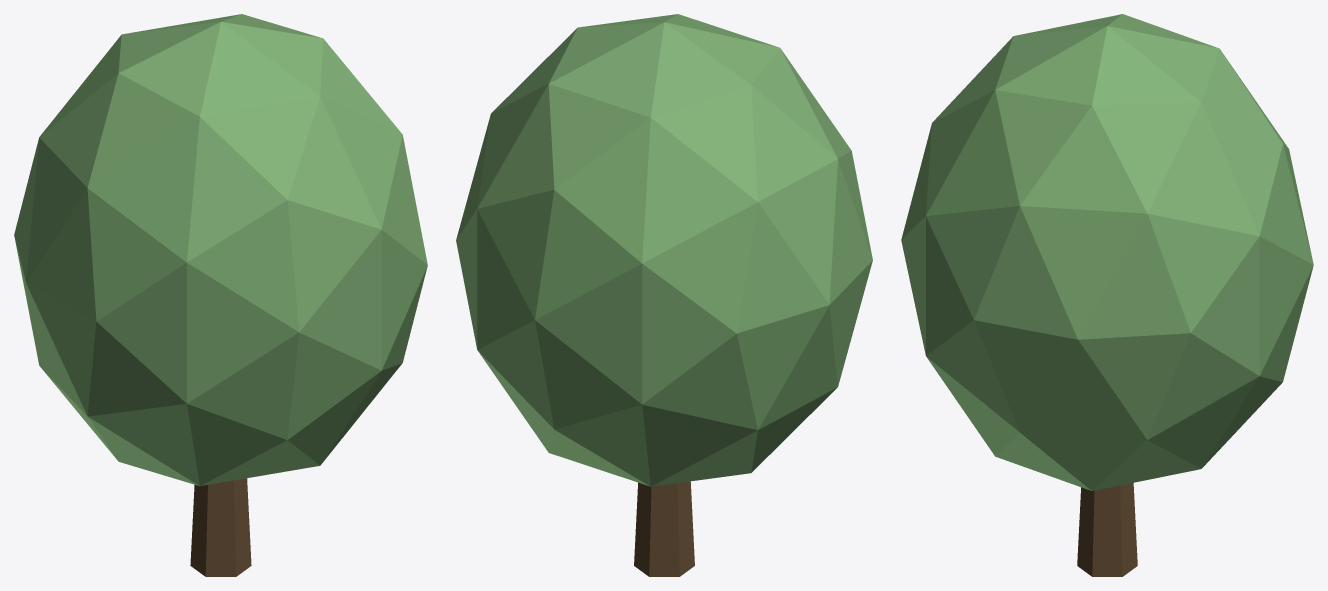
File: Tree.glb
3 renders of one model, left to right at view 1: azimuth 30°, elevation 25°; view 2: azimuth 150°, elevation 25°; view 3: azimuth 270°, elevation 25°, orthographic.
Visible parts, largest first — view 1: Crown, Trunk; view 2: Crown, Trunk; view 3: Crown, Trunk.
Part boxes in pixels (box(x1,y1,x2,y2)): Crown: box(14, 14, 427, 485); Trunk: box(190, 478, 251, 576); Crown: box(456, 14, 872, 486); Trunk: box(634, 481, 694, 576); Crown: box(901, 14, 1313, 490); Trunk: box(1077, 483, 1137, 576).
Bounding box in the file's own units: 43.56 × 62.9 × 43.56.
